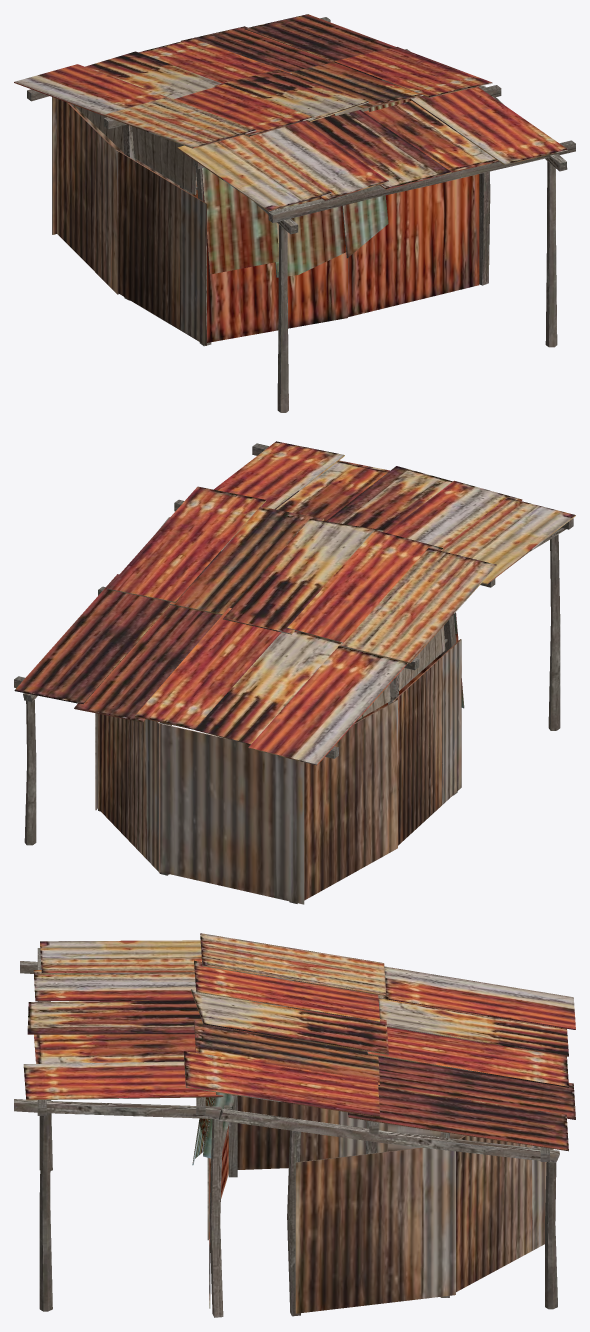
File: h_farm.glb
The picture shows the model from 3 angles, top to bottom: view 1: azimuth 30°, elevation 25°; view 2: azimuth 150°, elevation 25°; view 3: azimuth 270°, elevation 25°; orthographic projection. The views are drawn at different scales.
Parts seen in each view (by area): view 1: Object_4, Object_36, Object_26; view 2: Object_36, Object_4, Object_26; view 3: Object_36, Object_4, Object_26.
Boxes of the visible parts, x1=… form: Object_4: x1=52, y1=97, x2=479, y2=345; Object_36: x1=14, y1=14, x2=567, y2=211; Object_26: x1=27, y1=17, x2=575, y2=412; Object_36: x1=14, y1=441, x2=575, y2=765; Object_4: x1=95, y1=612, x2=464, y2=904; Object_26: x1=14, y1=443, x2=573, y2=903; Object_36: x1=23, y1=933, x2=575, y2=1151; Object_4: x1=192, y1=1092, x2=553, y2=1313; Object_26: x1=14, y1=948, x2=559, y2=1317.
Size of the model in its own units: 4.18 by 2.78 by 6.14.
Materials: 3 (3 with a texture image).
